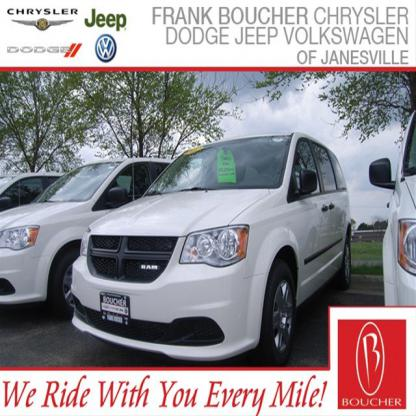Vehicle: (68, 127, 354, 362)
